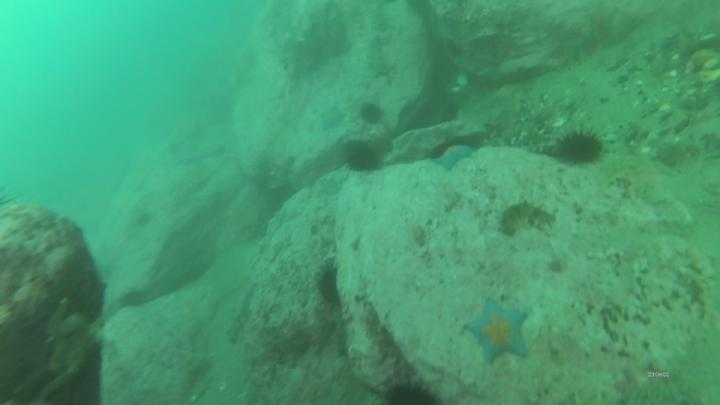echinus: (561, 133, 602, 164), (316, 268, 343, 307), (387, 387, 431, 405), (348, 150, 380, 173), (363, 104, 381, 121)
holothurian: (502, 203, 555, 234)
starfish: (468, 301, 530, 360), (435, 147, 474, 169)
